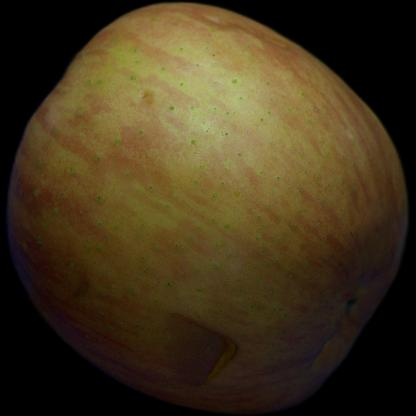defect: (147, 300, 297, 392)
